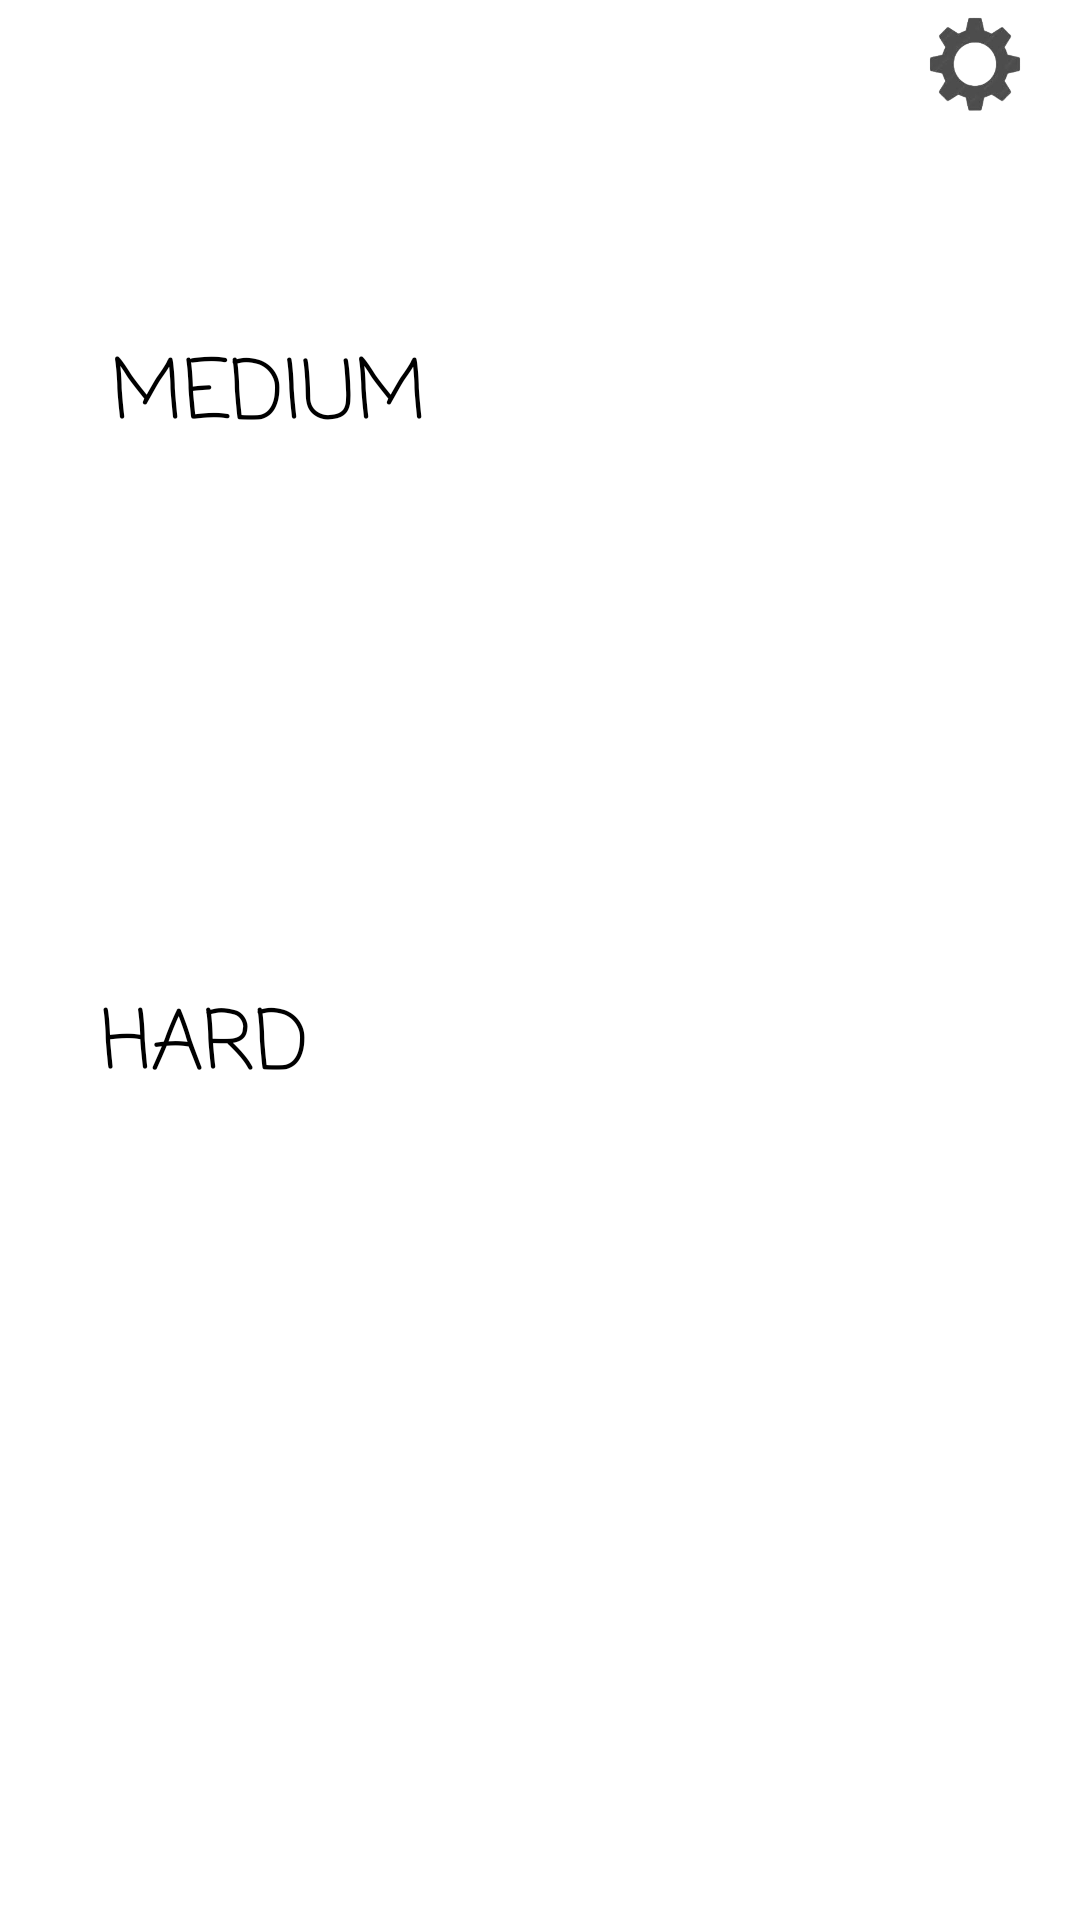

Screen size 1080x1920. Icon name, then its center in pixels as (x,y):
settingsicon: (975,64)
